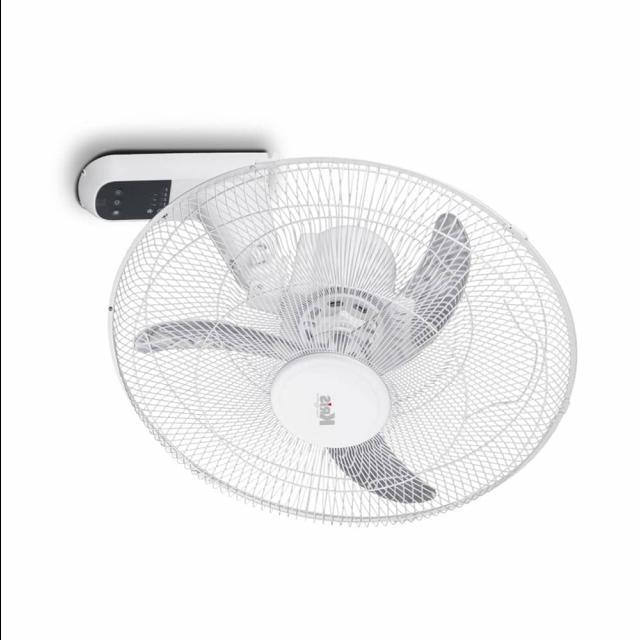fan: (69, 139, 583, 528)
